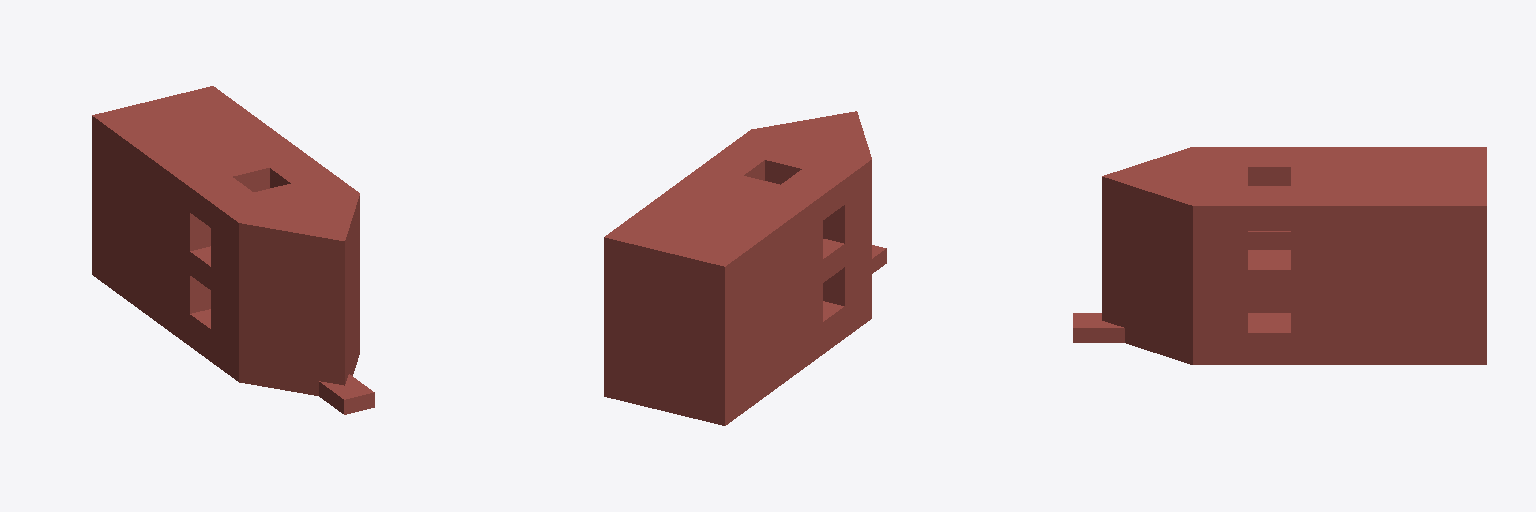
The model's file is tinker.obj.
The picture shows the model from 3 angles: view 1: azimuth 30°, elevation 25°; view 2: azimuth 150°, elevation 25°; view 3: azimuth 270°, elevation 25°; orthographic projection.
Visible parts, largest first — view 1: obj_0; view 2: obj_0; view 3: obj_0.
Boxes of the visible parts, x1=… form: obj_0: x1=92, y1=86, x2=374, y2=414; obj_0: x1=604, y1=111, x2=886, y2=425; obj_0: x1=1073, y1=147, x2=1486, y2=364.
Size of the model in its own units: 20 by 25.11 by 59.1.